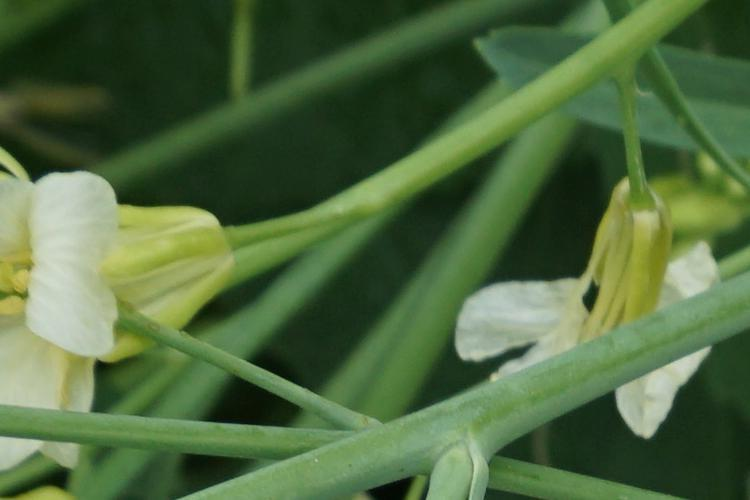white: (485, 162, 734, 459), (11, 177, 264, 442)
